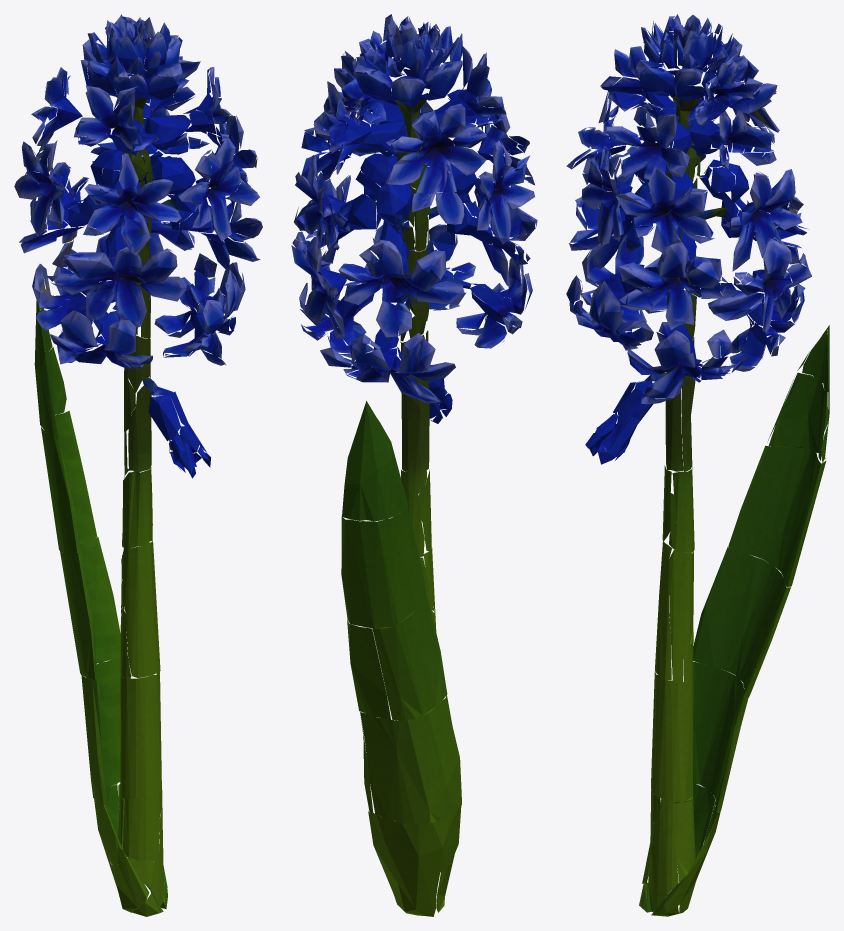
Rendered from flor_12_jacinto.glb.
3 views of the same model, side by side, from view 1: azimuth 30°, elevation 25°; view 2: azimuth 150°, elevation 25°; view 3: azimuth 270°, elevation 25° (orthographic).
Parts seen in each view (by area): view 1: tripo_node_7042eb04-9d81-4f37-85d9-0bbd8a2c36bc; view 2: tripo_node_7042eb04-9d81-4f37-85d9-0bbd8a2c36bc; view 3: tripo_node_7042eb04-9d81-4f37-85d9-0bbd8a2c36bc.
Part boxes in pixels (x1,y1,x2,y2): tripo_node_7042eb04-9d81-4f37-85d9-0bbd8a2c36bc: [14, 14, 262, 916]; tripo_node_7042eb04-9d81-4f37-85d9-0bbd8a2c36bc: [291, 14, 537, 916]; tripo_node_7042eb04-9d81-4f37-85d9-0bbd8a2c36bc: [566, 14, 829, 916].
Bounding box in the file's own units: 0.2441 × 1 × 0.2688.
Materials: 1 (1 with a texture image).
